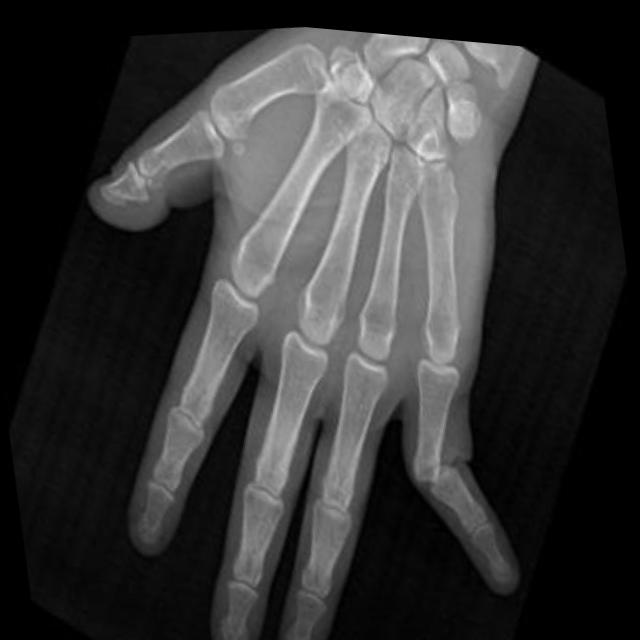fracture: (398, 435, 466, 503)
